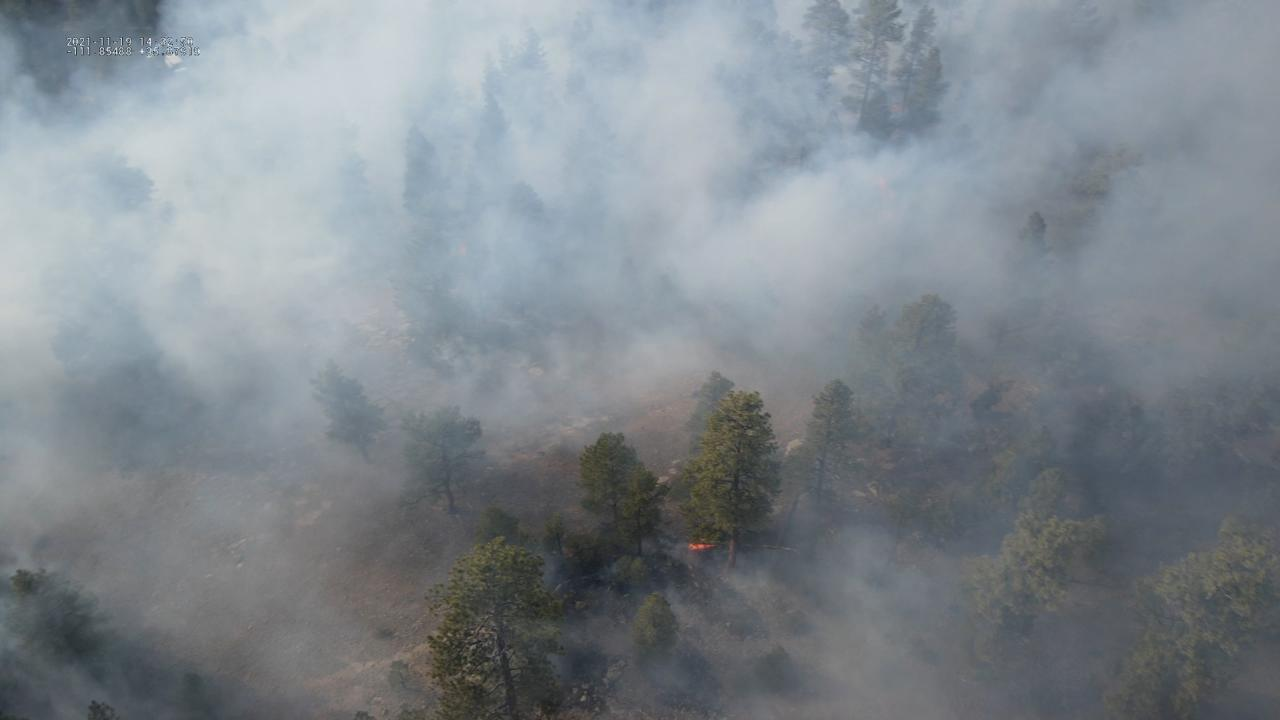fire: (687, 542, 718, 552)
smoke: (0, 0, 1280, 720)
